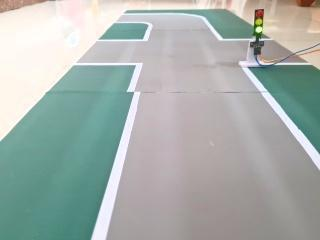green: (251, 6, 272, 46)
